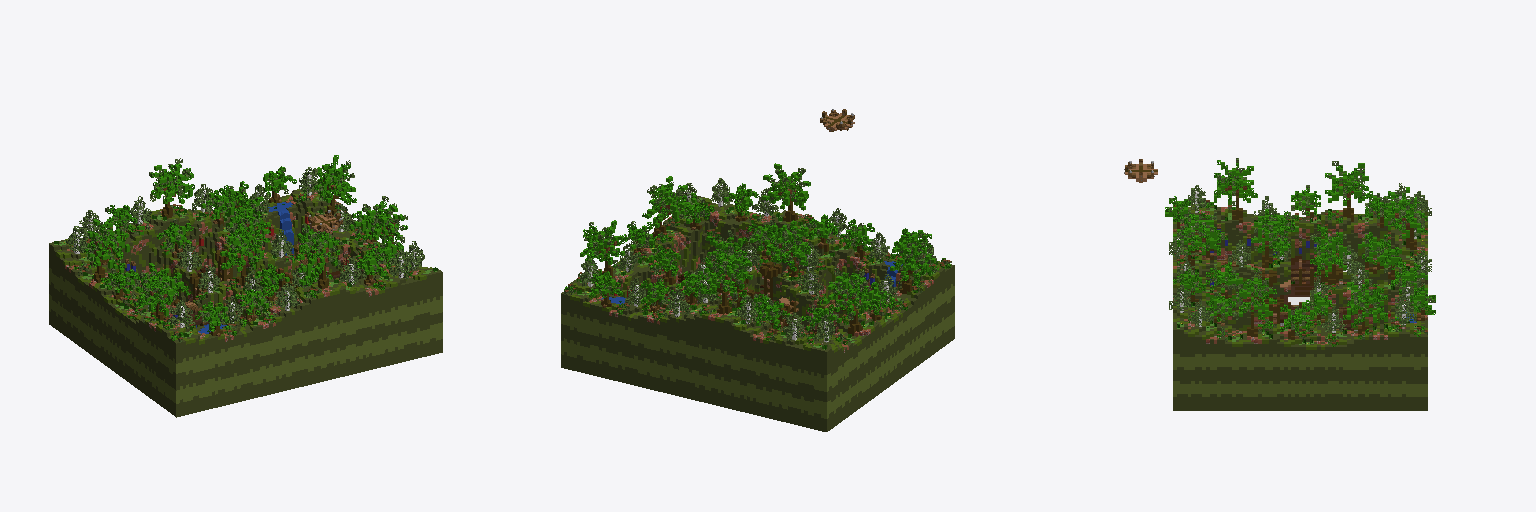
The picture shows the model from 3 angles: view 1: azimuth 30°, elevation 25°; view 2: azimuth 150°, elevation 25°; view 3: azimuth 270°, elevation 25°; orthographic projection.
Size of the model in its own units: 85 by 53.5 by 84.12.
Materials: 42 (16 with a texture image).